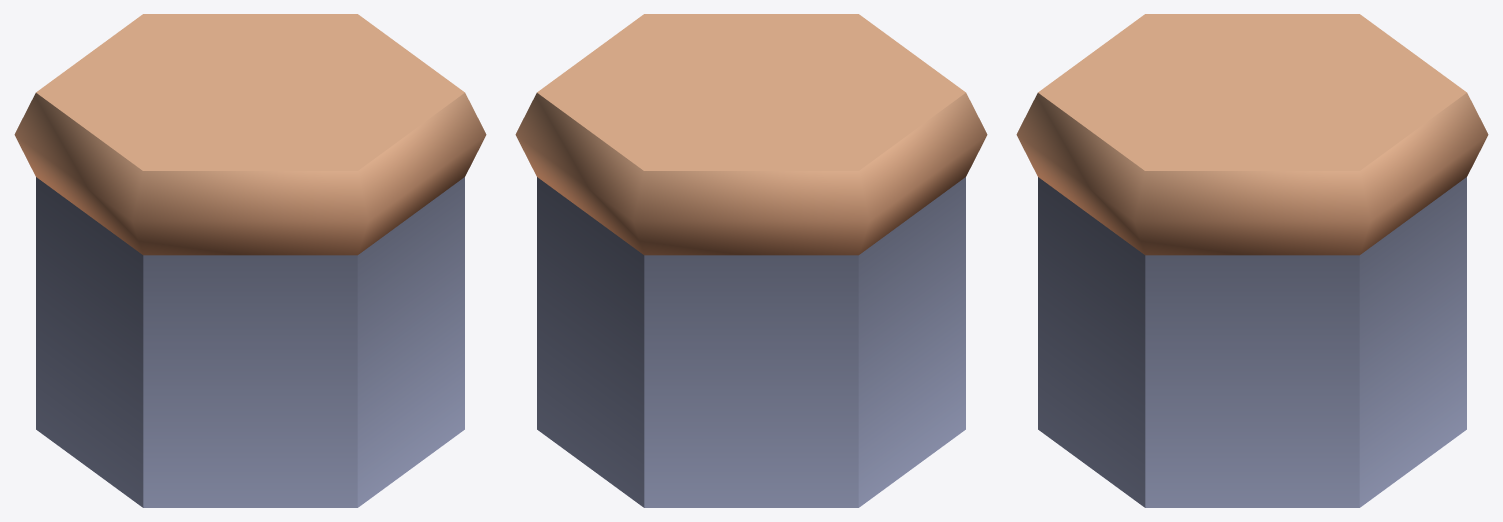
File: block-grass-hexagon.glb
3 renders of one model, left to right at view 1: azimuth 30°, elevation 25°; view 2: azimuth 150°, elevation 25°; view 3: azimuth 270°, elevation 25°, orthographic.
Visible parts, largest first — view 1: block-grass-hexagon; view 2: block-grass-hexagon; view 3: block-grass-hexagon.
Boxes of the visible parts, x1,y1,x2,y2 form: block-grass-hexagon: (14,14,486,507); block-grass-hexagon: (515,14,987,507); block-grass-hexagon: (1016,14,1488,507).
Size of the model in its own units: 1.1 by 1 by 1.27.
